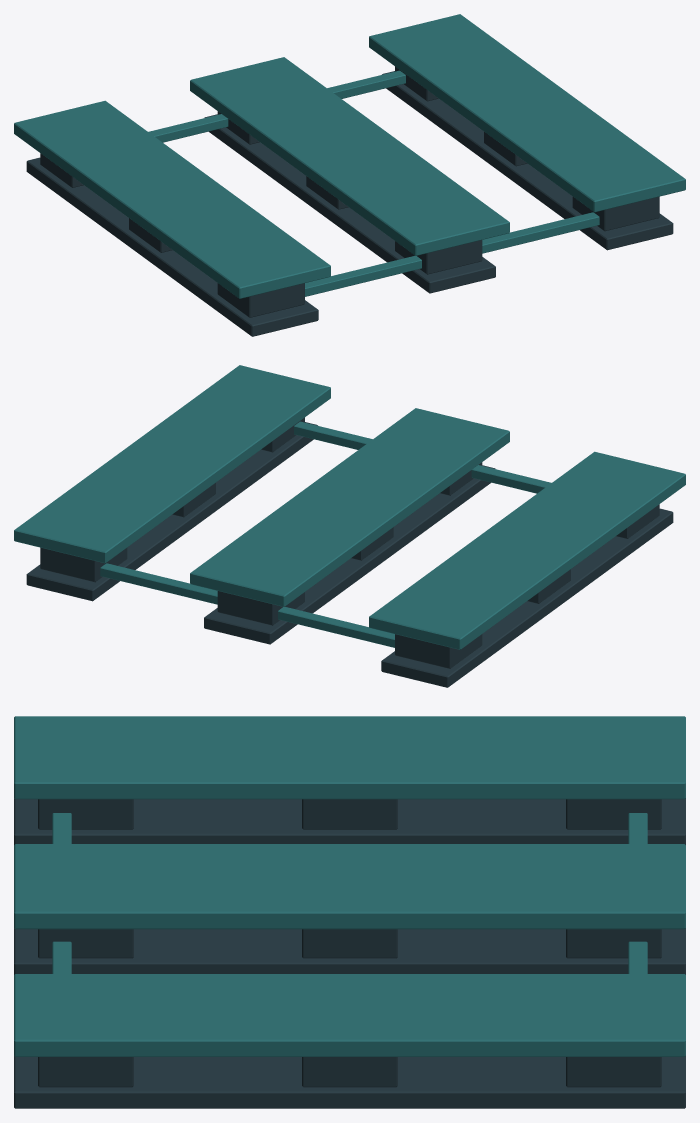
The model's file is heavy-bay.glb.
The picture shows the model from 3 angles, top to bottom: view 1: azimuth 30°, elevation 25°; view 2: azimuth 150°, elevation 25°; view 3: azimuth 270°, elevation 25°; orthographic projection. The views are drawn at different scales.
Parts seen in each view (by area): view 1: heavy-bay__batch_01, heavy-bay__batch_00; view 2: heavy-bay__batch_01, heavy-bay__batch_00; view 3: heavy-bay__batch_01, heavy-bay__batch_00.
Boxes of the visible parts, bbox=[...] form: heavy-bay__batch_01: bbox=[14, 14, 685, 298]; heavy-bay__batch_00: bbox=[26, 66, 673, 336]; heavy-bay__batch_01: bbox=[14, 365, 685, 649]; heavy-bay__batch_00: bbox=[26, 417, 673, 687]; heavy-bay__batch_01: bbox=[14, 716, 685, 1056]; heavy-bay__batch_00: bbox=[14, 798, 685, 1108].
Bounding box in the file's own units: 1.6 × 0.18 × 1.4.
